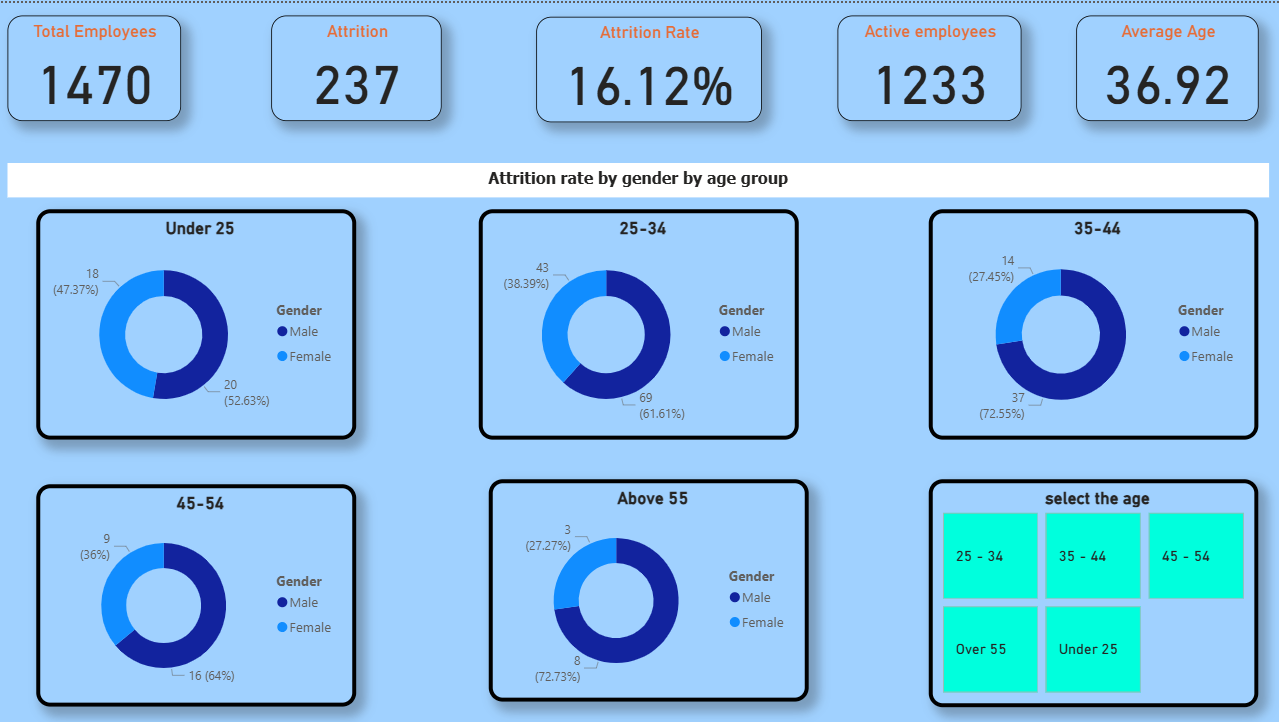

The page's visual inventory and layout, read from the dashboard file:
{"tool":"powerbi","page":{"name":"age wise attrition","canvas":[1280,720],"ordinal":3},"visuals":[{"type":"card","title":"Total Employees","fields":{"Values":["Sum(HR data.Employee Count)"]},"box":[8,12,173.3,105.3],"z":0},{"type":"card","title":"Attrition","fields":{"Values":["Sum(HR data.Attrition Count)"]},"box":[270.7,12,170.7,105.3],"z":1000},{"type":"card","title":"Attrition Rate","fields":{"Values":["HR data.ATTRITION RATE"]},"box":[536,13.3,225.3,105.3],"z":2000},{"type":"card","title":"Active employees","fields":{"Values":["HR data.ACTIVE EMPLOYEES"]},"box":[837.3,12,184,105.3],"z":3000},{"type":"card","title":"Average Age","fields":{"Values":["Avg(HR data.Age)"]},"box":[1076,12,182.7,105.3],"z":4000},{"type":"donutChart","title":"Under 25","fields":{"Category":["HR data.Gender"],"Y":["Sum(HR data.Attrition Count)"],"Series":["HR data.CF_age band"]},"box":[36,206.7,320,230.7],"z":5000},{"type":"textbox","box":[8,160,1261.3,34.7],"z":6000},{"type":"donutChart","title":"45-54 ","fields":{"Category":["HR data.Gender"],"Y":["Sum(HR data.Attrition Count)"],"Series":["HR data.CF_age band"]},"box":[36,481.3,320,222.7],"z":7000},{"type":"donutChart","title":"Above 55","fields":{"Category":["HR data.Gender"],"Y":["Sum(HR data.Attrition Count)"],"Series":["HR data.CF_age band"]},"box":[489.3,476,320,222.7],"z":8000},{"type":"donutChart","title":"25-34","fields":{"Category":["HR data.Gender"],"Y":["Sum(HR data.Attrition Count)"],"Series":["HR data.CF_age band"]},"box":[478.7,206.7,320,230.7],"z":9000},{"type":"donutChart","title":"35-44","fields":{"Category":["HR data.Gender"],"Y":["Sum(HR data.Attrition Count)"],"Series":["HR data.CF_age band"]},"box":[929.3,206.7,329.3,230.7],"z":10000},{"type":"advancedSlicerVisual","title":"select the age","fields":{"Values":["HR data.CF_age band"]},"box":[929.3,476,329.3,228],"z":11000}]}

Visuals, with their boxes in screenshot pixels (x1, y1, x2, y2), scaled from the page's 1280x720 canvas onto the 1279x722 screenshot:
"Total Employees" card: bbox=(8, 12, 181, 118)
"Attrition" card: bbox=(270, 12, 441, 118)
"Attrition Rate" card: bbox=(536, 13, 761, 119)
"Active employees" card: bbox=(837, 12, 1021, 118)
"Average Age" card: bbox=(1075, 12, 1258, 118)
"Under 25" donutChart: bbox=(36, 207, 356, 439)
textbox: bbox=(8, 160, 1268, 195)
"45-54 " donutChart: bbox=(36, 483, 356, 706)
"Above 55" donutChart: bbox=(489, 477, 809, 701)
"25-34" donutChart: bbox=(478, 207, 798, 439)
"35-44" donutChart: bbox=(929, 207, 1258, 439)
"select the age" advancedSlicerVisual: bbox=(929, 477, 1258, 706)
